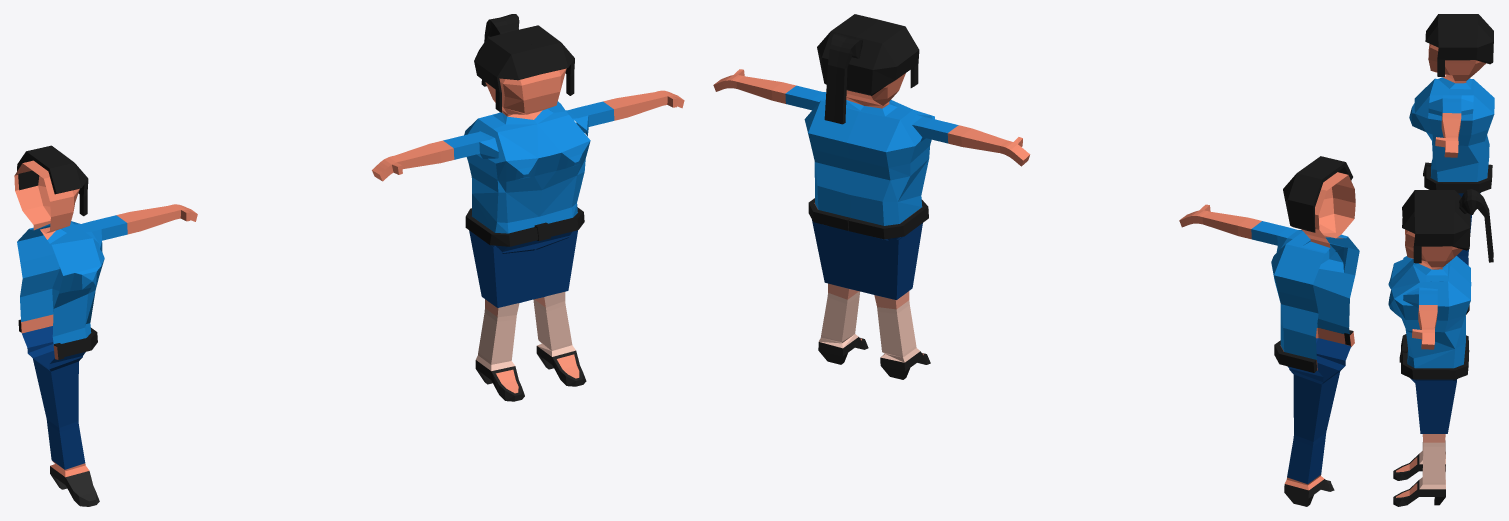
File: taiwan police.glb
The picture shows the model from 3 angles, left to right: view 1: azimuth 30°, elevation 25°; view 2: azimuth 150°, elevation 25°; view 3: azimuth 270°, elevation 25°; orthographic projection. The views are drawn at different scales.
Parts seen in each view (by area): view 1: PoliceWoman.001, PoliceWoman1; view 2: PoliceWoman.001, PoliceWoman1; view 3: PoliceWoman.001, PoliceWoman1.
Boxes of the visible parts, bbox=[...] form: PoliceWoman.001: bbox=[372, 14, 684, 401]; PoliceWoman1: bbox=[14, 145, 197, 506]; PoliceWoman.001: bbox=[713, 14, 1030, 379]; PoliceWoman1: bbox=[1179, 156, 1359, 506]; PoliceWoman.001: bbox=[1388, 189, 1493, 506]; PoliceWoman1: bbox=[1409, 14, 1494, 314].
Bounding box in the file's own units: 4.14 × 2.24 × 0.7006.
1 material, 1 textured.
